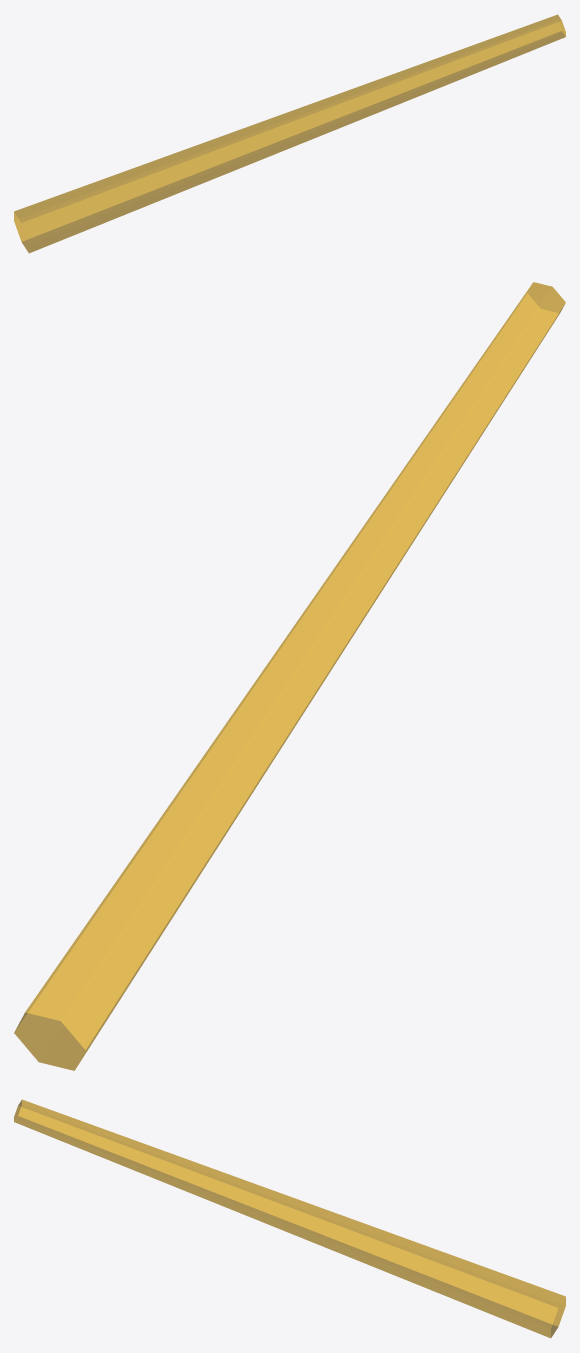
Rendered from SM_Veh_Ship_S_Bowsprit_01_Collision.fbx.
3 views of the same model, one above another, from view 1: azimuth 90°, elevation 25°; view 2: azimuth 150°, elevation 25°; view 3: azimuth 270°, elevation 25° (orthographic). The views are drawn at different scales.
Parts seen in each view (by area): view 1: SM_Veh_Ship_S_Bowsprit_01_Collision; view 2: SM_Veh_Ship_S_Bowsprit_01_Collision; view 3: SM_Veh_Ship_S_Bowsprit_01_Collision.
Part boxes in pixels (x1=…): SM_Veh_Ship_S_Bowsprit_01_Collision: x1=14, y1=14, x2=565, y2=253; SM_Veh_Ship_S_Bowsprit_01_Collision: x1=14, y1=282, x2=565, y2=1070; SM_Veh_Ship_S_Bowsprit_01_Collision: x1=14, y1=1099, x2=565, y2=1338.
Size of the model in its own units: 72.85 by 414 by 894.
